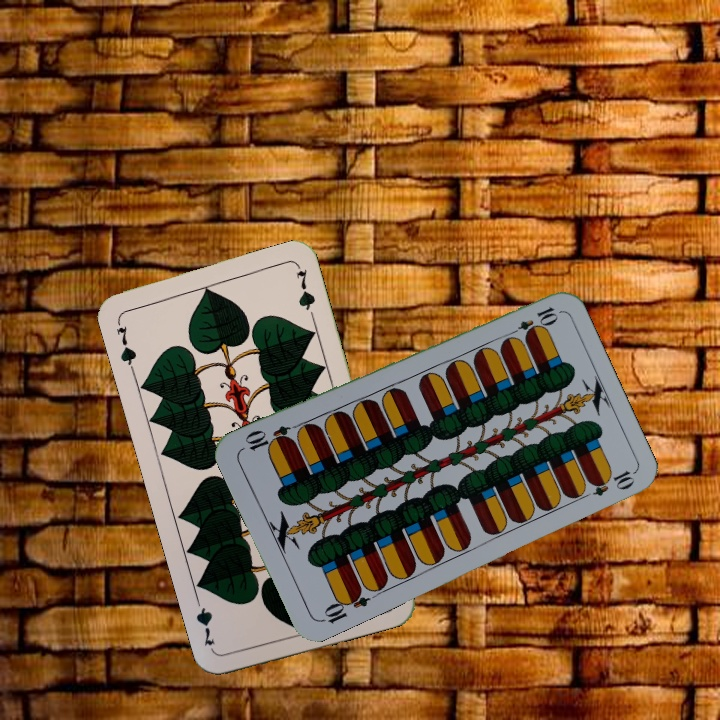E10: (316, 584, 372, 626), (504, 302, 560, 341)
G7: (111, 321, 139, 374)
